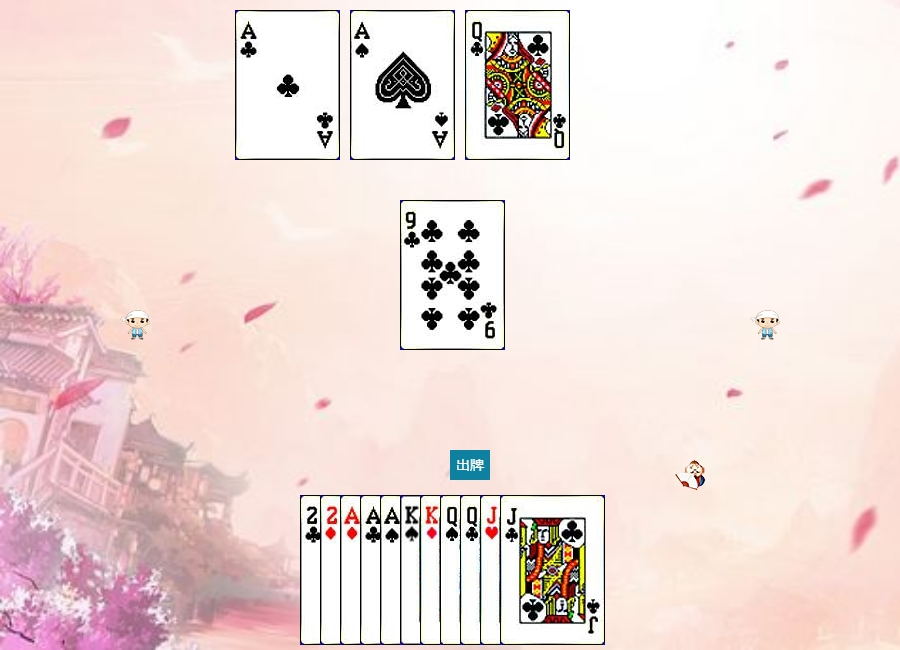11~2: (500, 495, 605, 645)
11~3: (480, 495, 585, 645)
12~2: (465, 10, 570, 160), (460, 495, 565, 645)
12~4: (440, 495, 545, 645)
13~1: (420, 495, 525, 645)
13~4: (400, 495, 505, 645)
14~1: (340, 495, 445, 645)
14~2: (235, 10, 340, 160), (360, 495, 465, 645)
14~4: (350, 10, 455, 160), (380, 495, 485, 645)
15~1: (320, 495, 425, 645)
15~2: (300, 495, 405, 645)
9~2: (400, 200, 505, 350)
